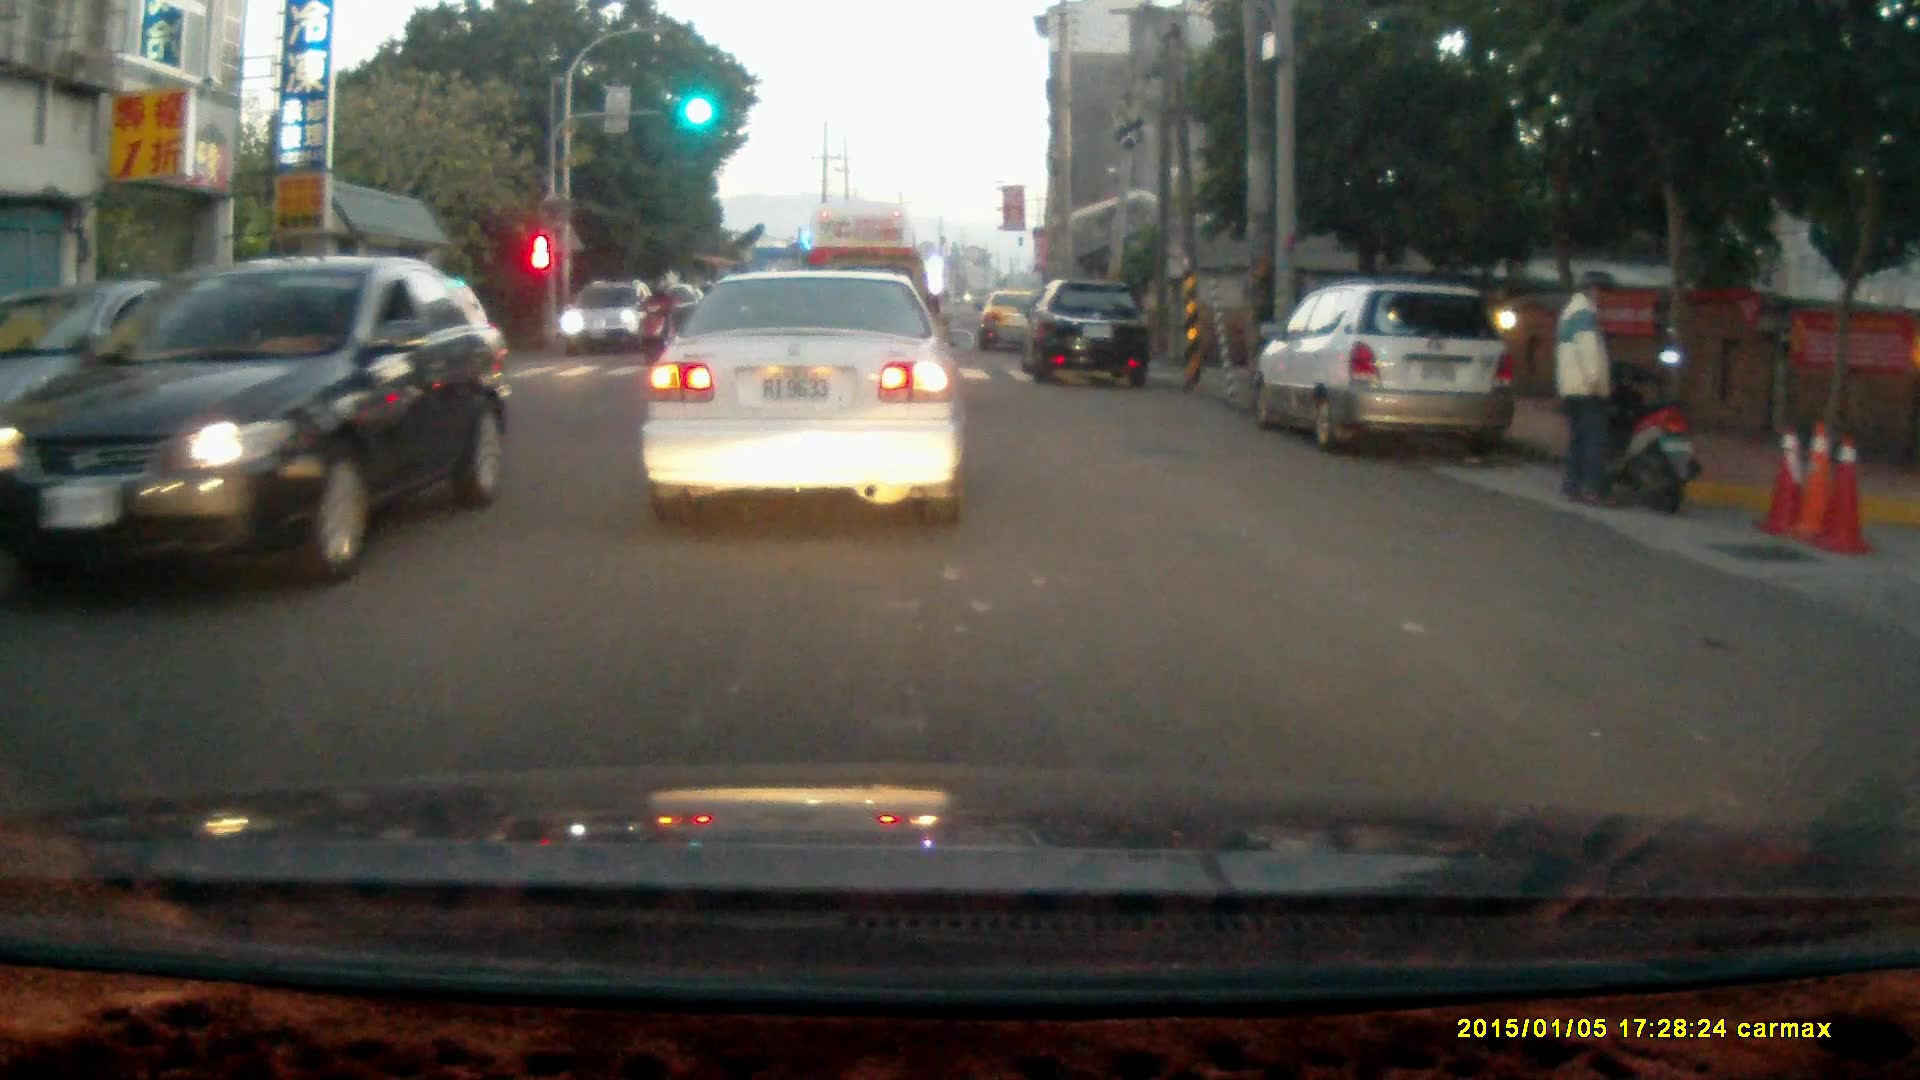pedestrian: (1548, 271, 1622, 514)
rider: (634, 276, 675, 366)
vehicle: (1, 257, 487, 592), (639, 273, 964, 529), (1267, 287, 1519, 465), (806, 204, 928, 371), (1024, 279, 1160, 389), (563, 281, 661, 354), (976, 287, 1070, 359)
